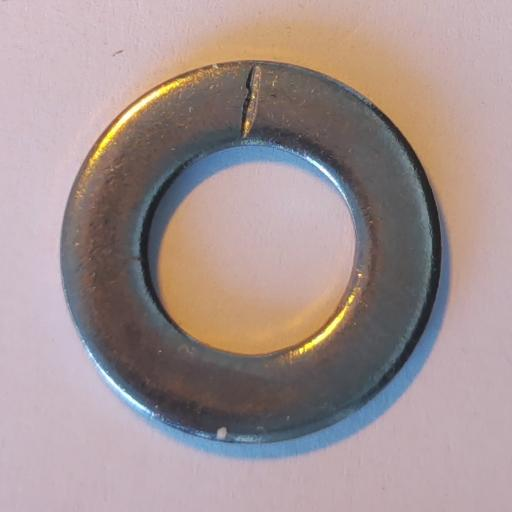scratch: (241, 65, 262, 139)
